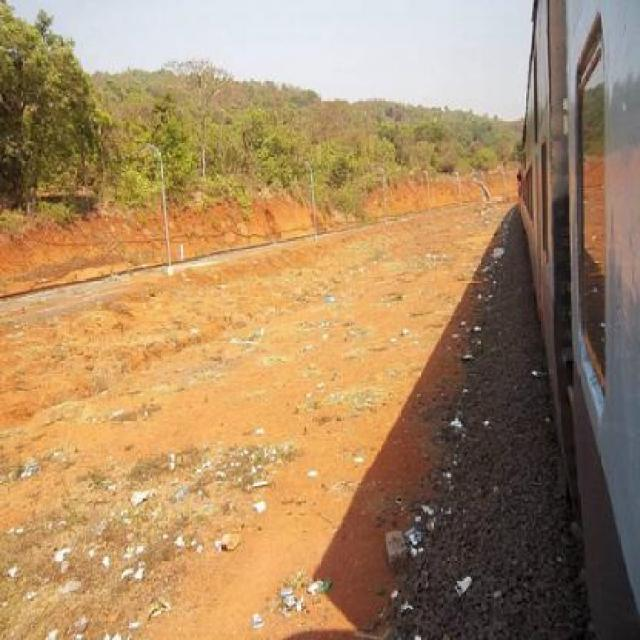garbage: (12, 452, 334, 630), (296, 332, 329, 408), (389, 483, 420, 562), (385, 293, 420, 356), (454, 314, 482, 368), (176, 316, 220, 343), (449, 389, 466, 458), (231, 325, 275, 350), (446, 568, 472, 606), (486, 220, 503, 269), (314, 286, 337, 310), (474, 276, 489, 305)
